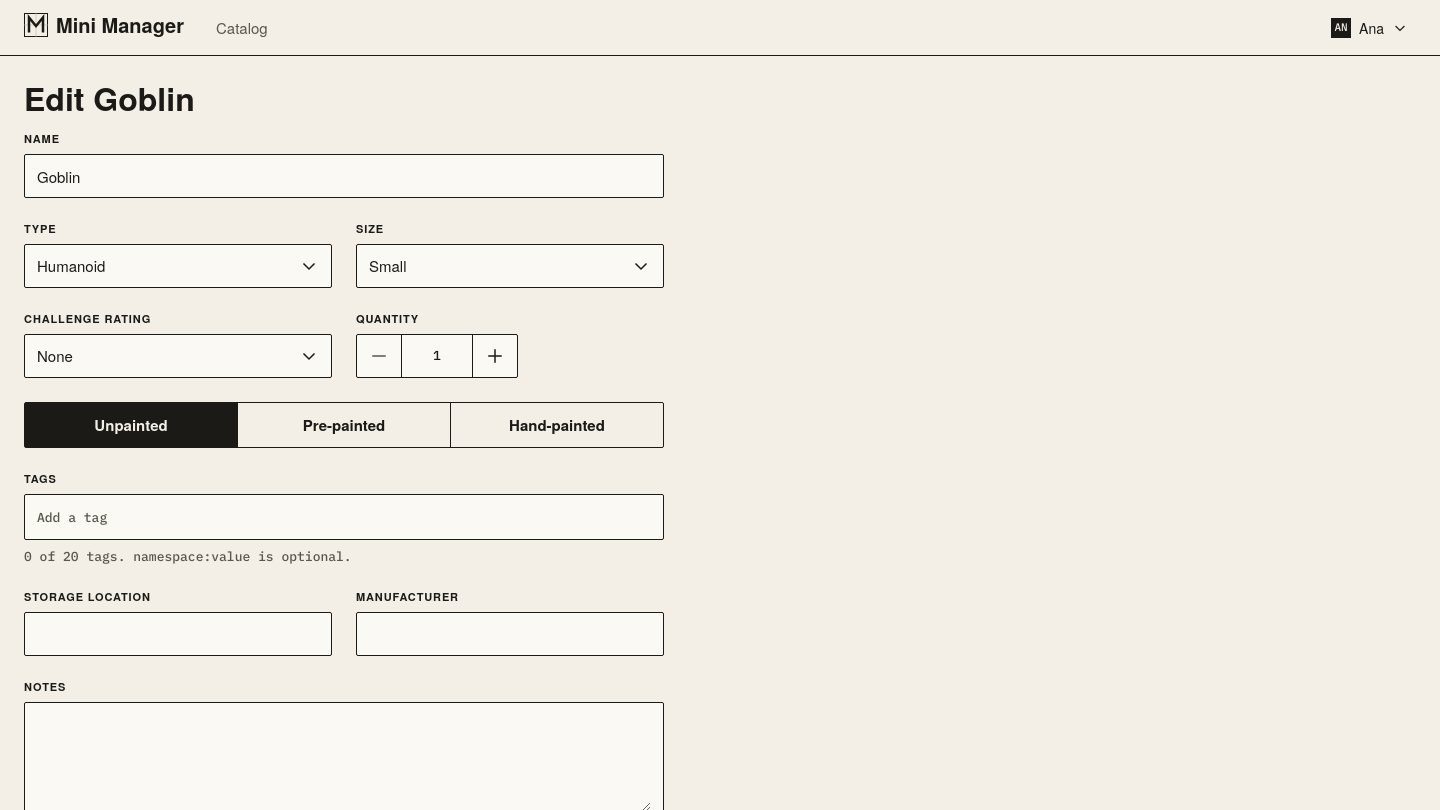
MiniatureFormPage › card 5 acceptance criterion 3: a conflicting save shows the conflict message with Reload only
Type " Warrior" into the field labelled "Name" at (344, 176), box [37,155,651,197]
(page scrolled)
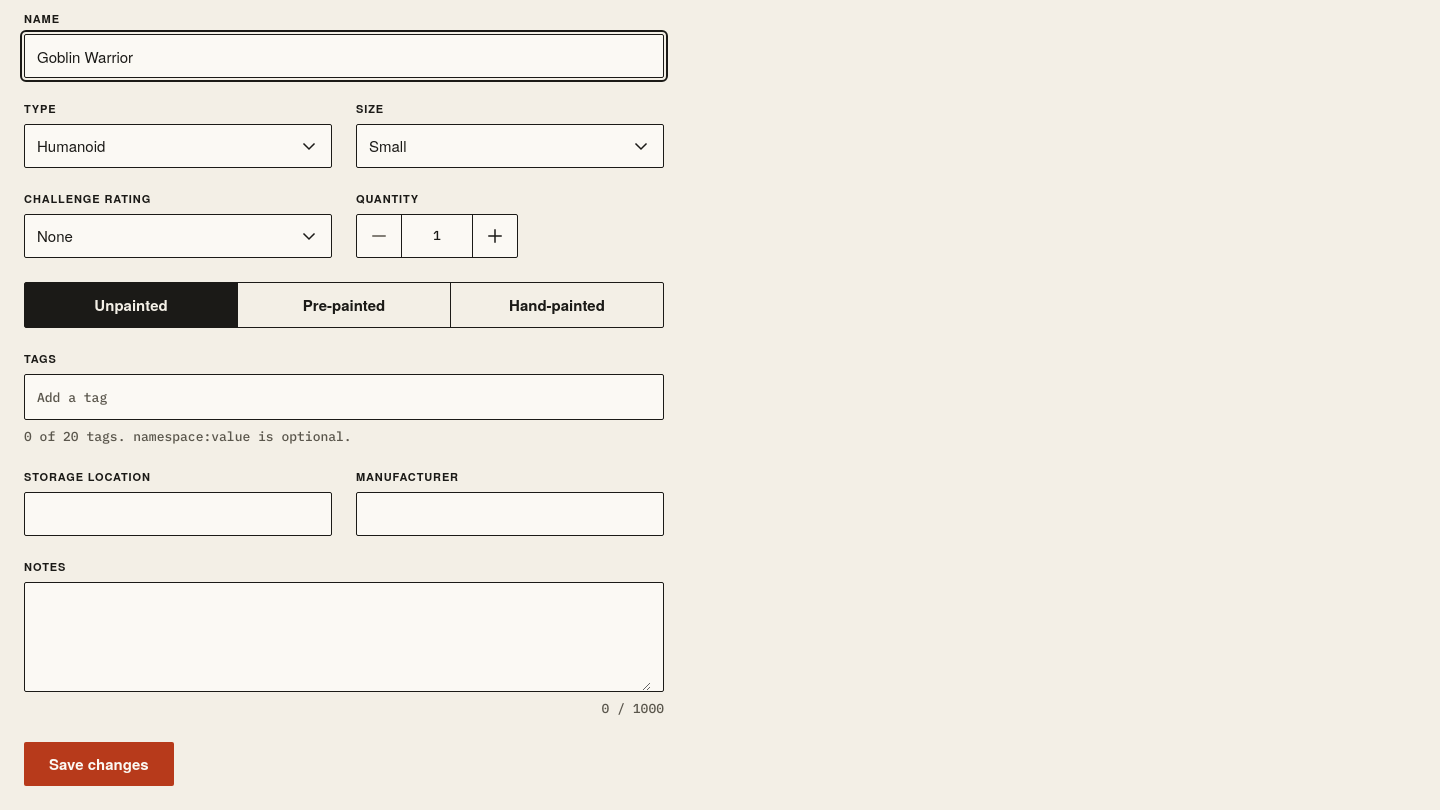
Click the button "Save changes" at (99, 764), box [24,742,174,786]
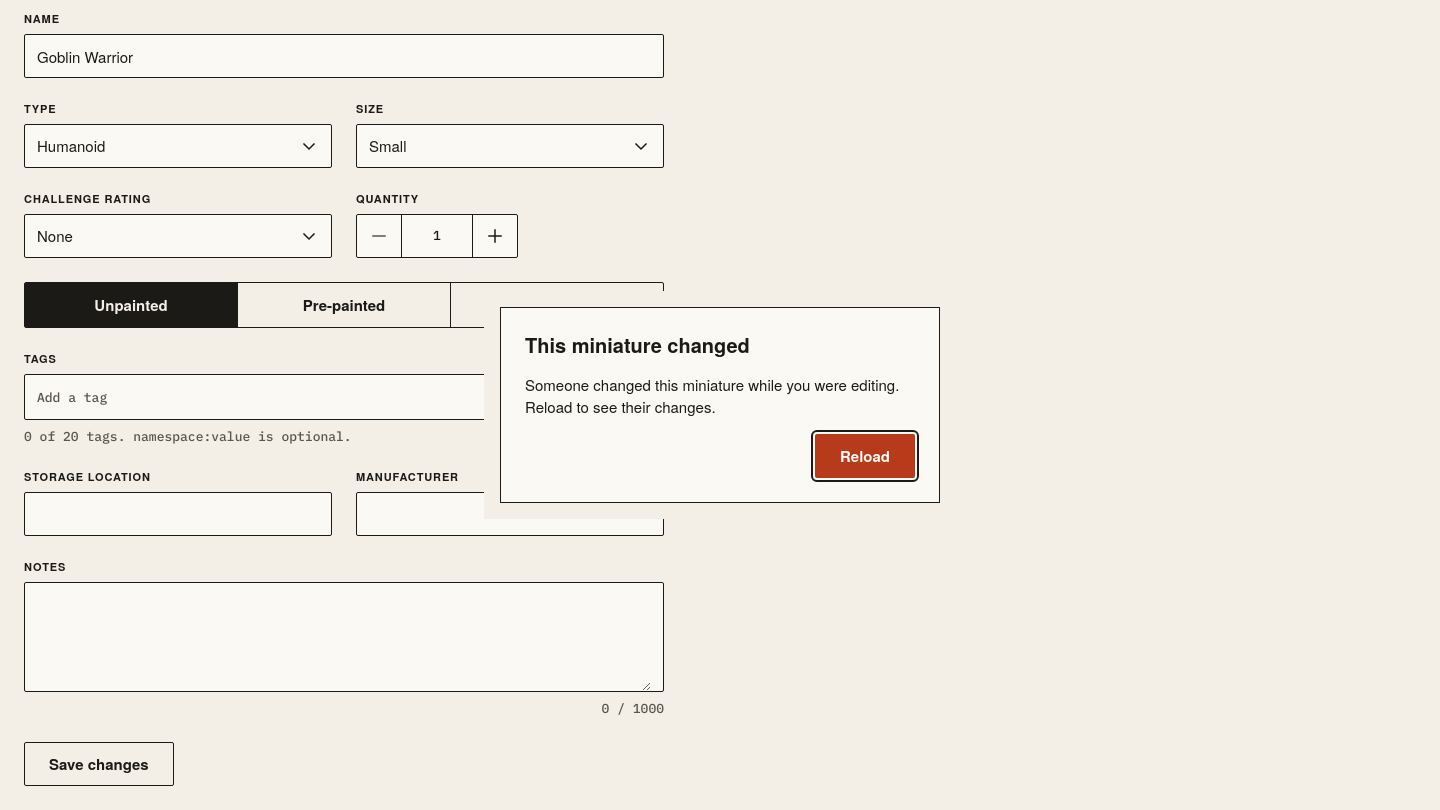
Expected: the dialog "This miniature changed" shows "Someone changed this miniature while you were editing. Reload to see their changes.", [525,374,899,417]
Expected: the buttons read "Reload", in this order
Click the button "Reload" at (865, 456), box [815,434,915,478]
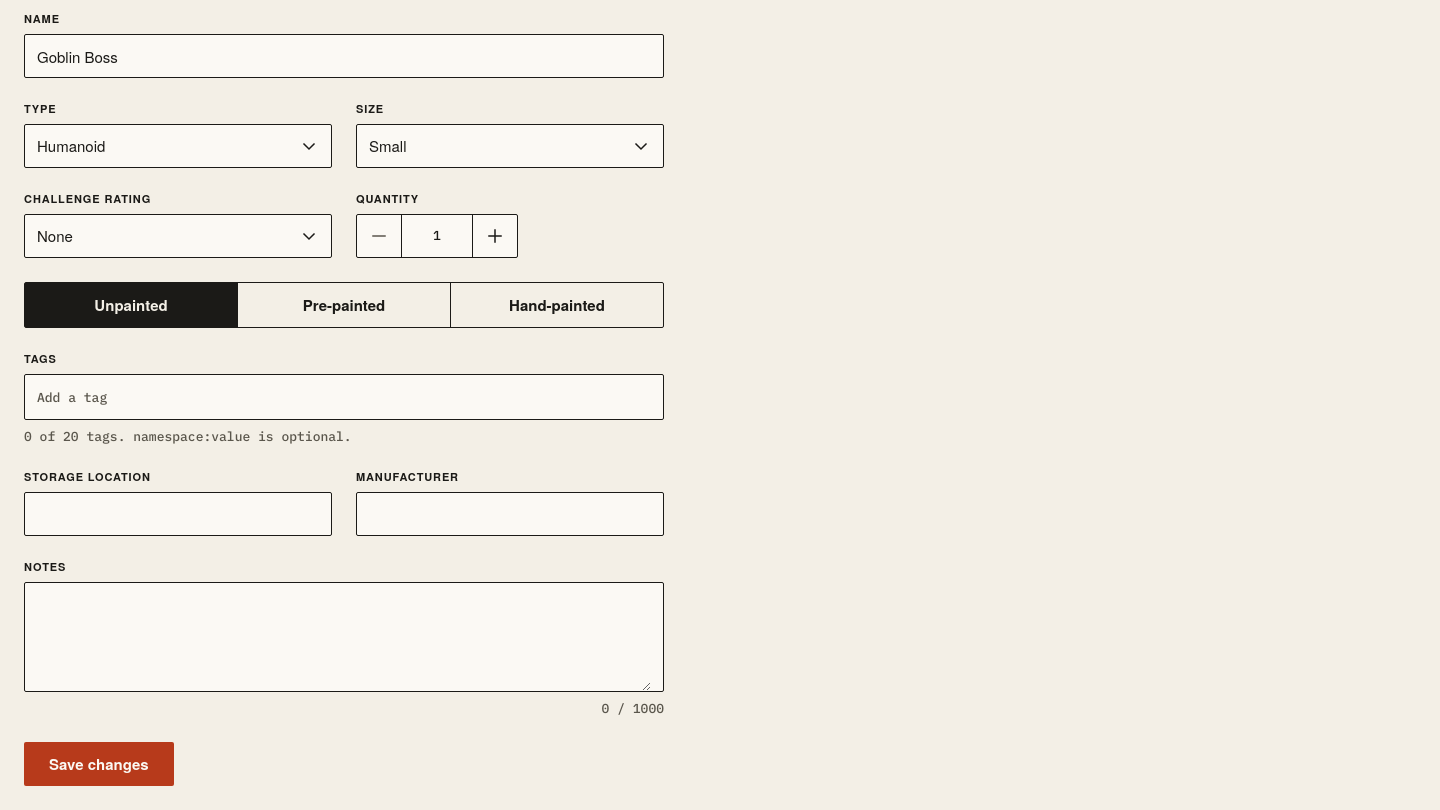
Expected: the field showing "Goblin Boss" is shown, [37,35,651,77]
